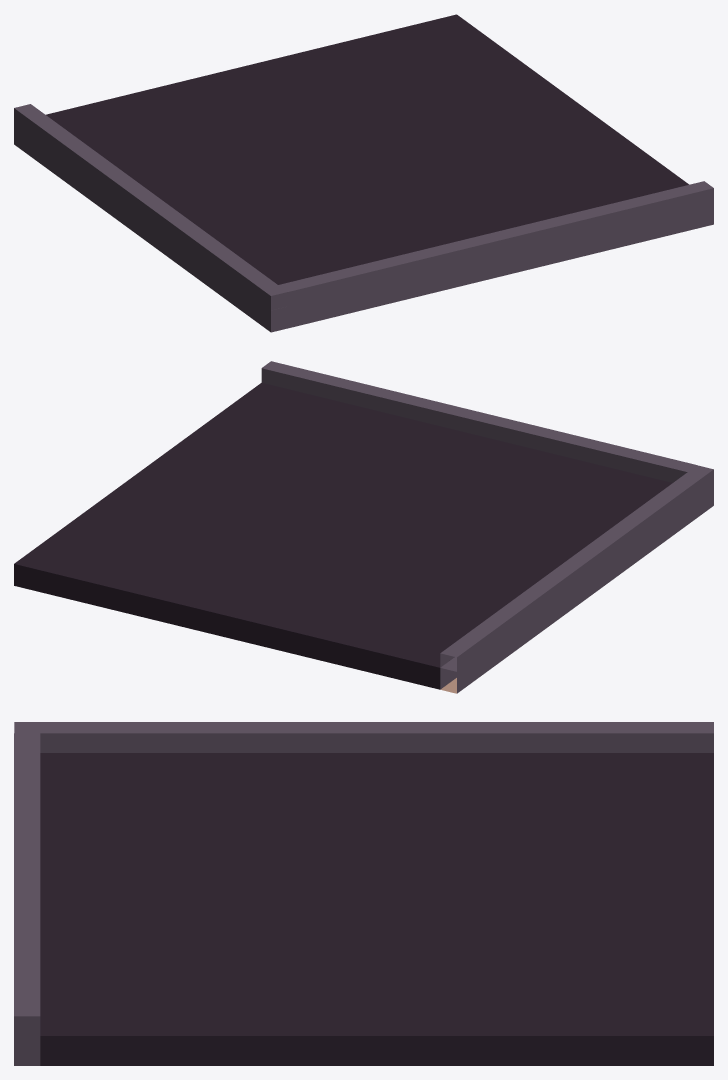
File: Road-5.fbx
3 views of the same model, one above another, from view 1: azimuth 30°, elevation 25°; view 2: azimuth 150°, elevation 25°; view 3: azimuth 270°, elevation 25° (orthographic). The views are drawn at different scales.
Parts seen in each view (by area): view 1: Cube.002; view 2: Cube.002; view 3: Cube.002.
Part boxes in pixels (x1,y1,x2,y2): Cube.002: (14, 14, 713, 332); Cube.002: (14, 361, 713, 693); Cube.002: (14, 722, 713, 1065).
Bounding box in the file's own units: 58.02 × 4.56 × 58.35.
